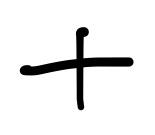plus: (18, 25, 133, 108)
